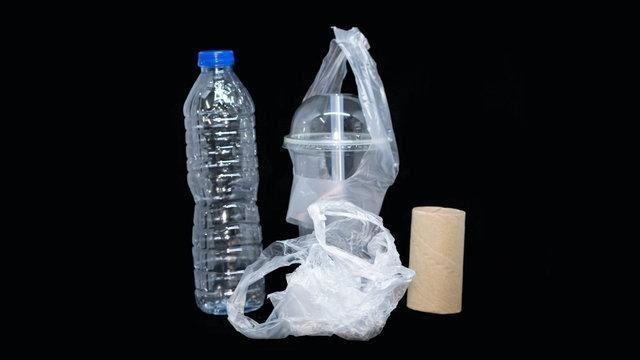bottle-plastic: (180, 46, 265, 317)
